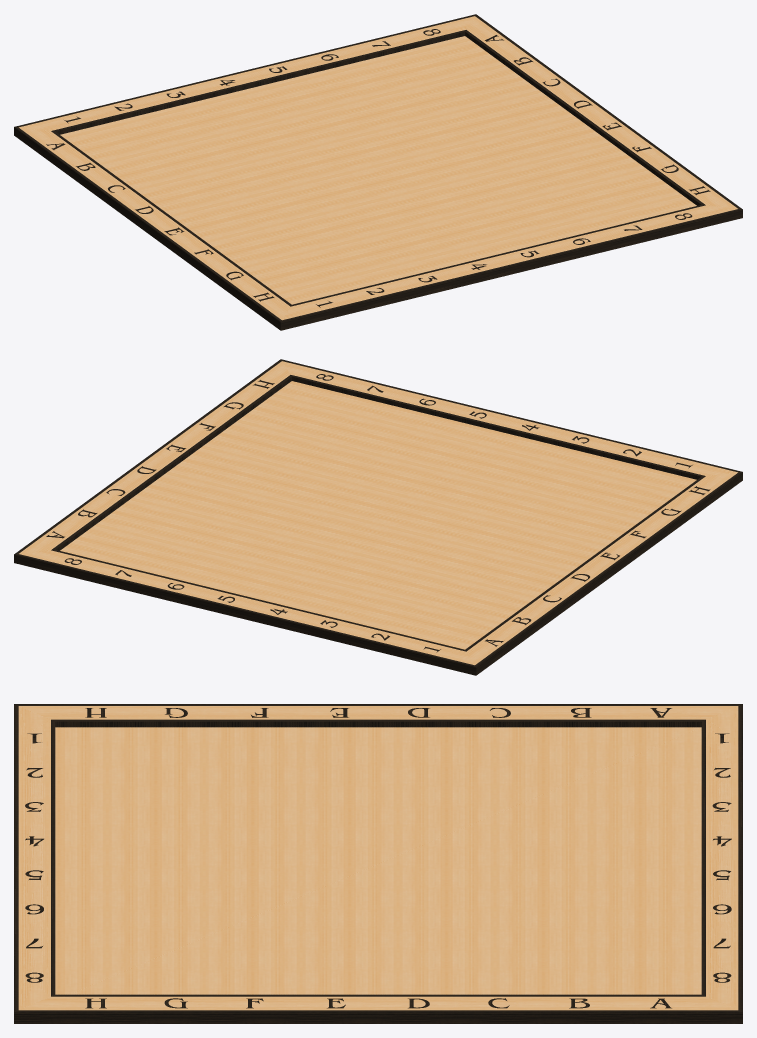
File: board.gltf
3 views of the same model, one above another, from view 1: azimuth 30°, elevation 25°; view 2: azimuth 150°, elevation 25°; view 3: azimuth 270°, elevation 25° (orthographic). The views are drawn at different scales.
Parts seen in each view (by area): view 1: Material2.108, Material2.122, Material2.110, Material2.202, Material2.086, Material2.104, Material2.204, Material2.162, Material2.176, Material2.201, Material2.163, Material2.203 (+1 smaller); view 2: Material2.108, Material2.110, Material2.122, Material2.201, Material2.086, Material2.104, Material2.204, Material2.163, Material2.176, Material2.202, Material2.162, Material2.203 (+1 smaller); view 3: Material2.108, Material2.203, Material2.086, Material2.122, Material2.110, Material2.104, Material2.164, Material2.176, Material2.201, Material2.202, Material2.204, Material2.162 (+1 smaller).
Boxes of the visible parts, bbox=[...] form: Material2.108: bbox=[60, 36, 696, 304]; Material2.122: bbox=[19, 16, 474, 130]; Material2.110: bbox=[282, 205, 737, 320]; Material2.202: bbox=[280, 209, 742, 330]; Material2.086: bbox=[466, 16, 737, 208]; Material2.104: bbox=[19, 127, 290, 319]; Material2.204: bbox=[14, 127, 281, 330]; Material2.162: bbox=[51, 30, 465, 134]; Material2.176: bbox=[465, 30, 705, 205]; Material2.201: bbox=[14, 14, 475, 127]; Material2.163: bbox=[291, 204, 704, 306]; Material2.203: bbox=[475, 14, 742, 209]; Material2.108: bbox=[60, 381, 696, 649]; Material2.110: bbox=[282, 361, 737, 475]; Material2.122: bbox=[19, 550, 474, 665]; Material2.201: bbox=[14, 554, 476, 675]; Material2.086: bbox=[19, 361, 290, 553]; Material2.104: bbox=[466, 472, 737, 664]; Material2.204: bbox=[475, 472, 742, 675]; Material2.163: bbox=[291, 375, 705, 479]; Material2.176: bbox=[51, 375, 291, 550]; Material2.202: bbox=[281, 359, 742, 472]; Material2.162: bbox=[52, 549, 465, 651]; Material2.203: bbox=[14, 359, 281, 554]; Material2.108: bbox=[55, 727, 701, 994]; Material2.203: bbox=[14, 1010, 742, 1023]; Material2.086: bbox=[19, 996, 737, 1010]; Material2.122: bbox=[706, 706, 738, 1009]; Material2.110: bbox=[18, 706, 50, 1009]; Material2.104: bbox=[19, 706, 737, 719]; Material2.164: bbox=[51, 719, 705, 727]; Material2.176: bbox=[51, 994, 705, 996]; Material2.201: bbox=[738, 704, 742, 1011]; Material2.202: bbox=[14, 704, 18, 1011]; Material2.204: bbox=[14, 704, 742, 705]; Material2.162: bbox=[701, 720, 705, 996].
Size of the model in its own units: 3.16 by 0.0559 by 3.16.
Materials: 2 (2 with a texture image).
